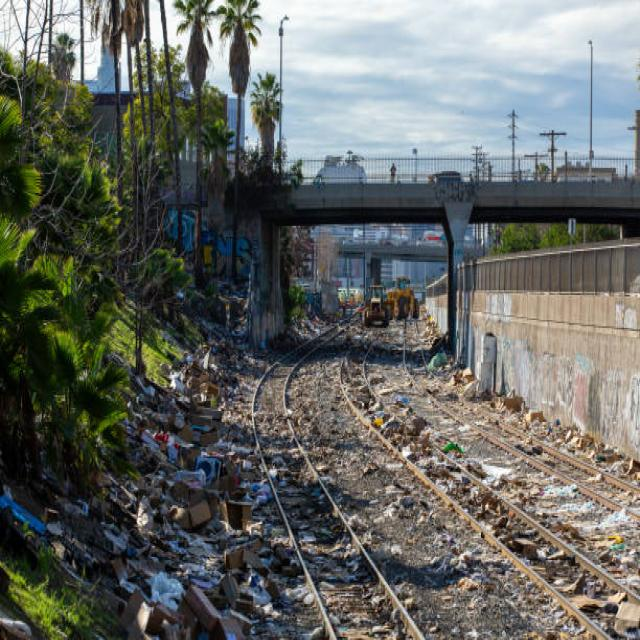cardboard: (131, 593, 252, 640), (182, 478, 252, 535), (175, 381, 222, 444), (499, 392, 552, 425), (568, 425, 607, 453)
